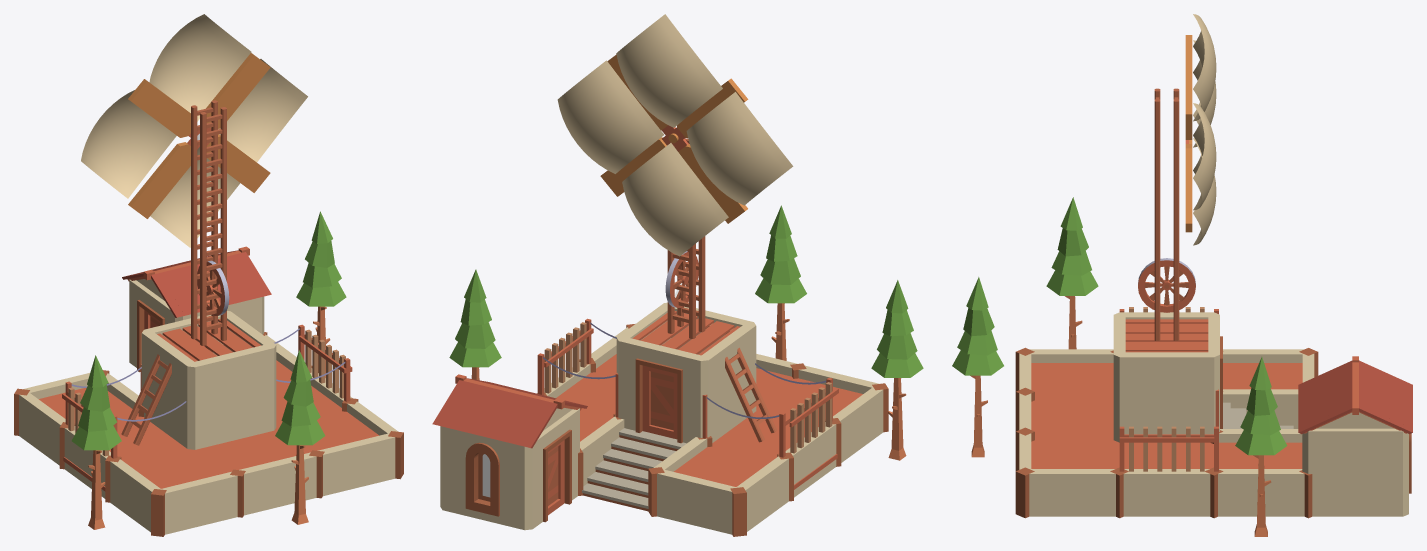
Rendered from eolienne.glb.
3 views of the same model, side by side, from view 1: azimuth 30°, elevation 25°; view 2: azimuth 150°, elevation 25°; view 3: azimuth 270°, elevation 25° (orthographic). The views are drawn at different scales.
Parts seen in each view (by area): view 1: mergedBlocks(Clone); view 2: mergedBlocks(Clone); view 3: mergedBlocks(Clone).
Part boxes in pixels (<box>): mergedBlocks(Clone): <box>14,14,403,536</box>; mergedBlocks(Clone): <box>432,14,923,536</box>; mergedBlocks(Clone): <box>952,14,1412,536</box>.
Bounding box in the file's own units: 4.48 × 5.2 × 4.88.
1 material, 1 textured.
